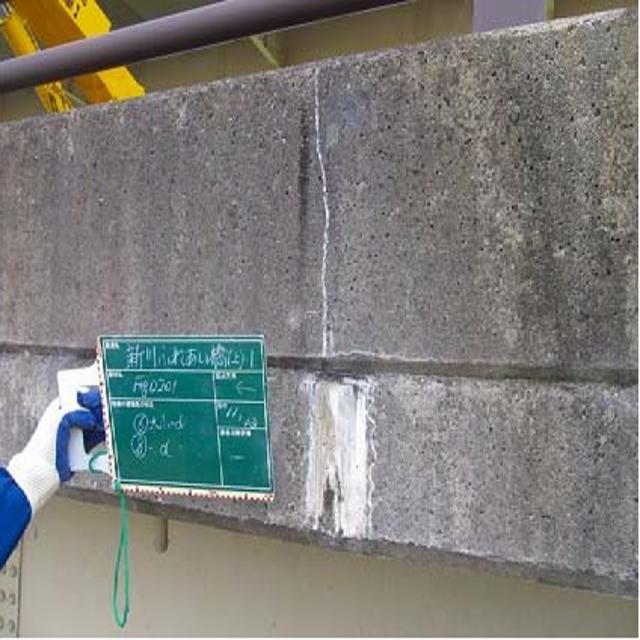freelime: (303, 357, 380, 552)
